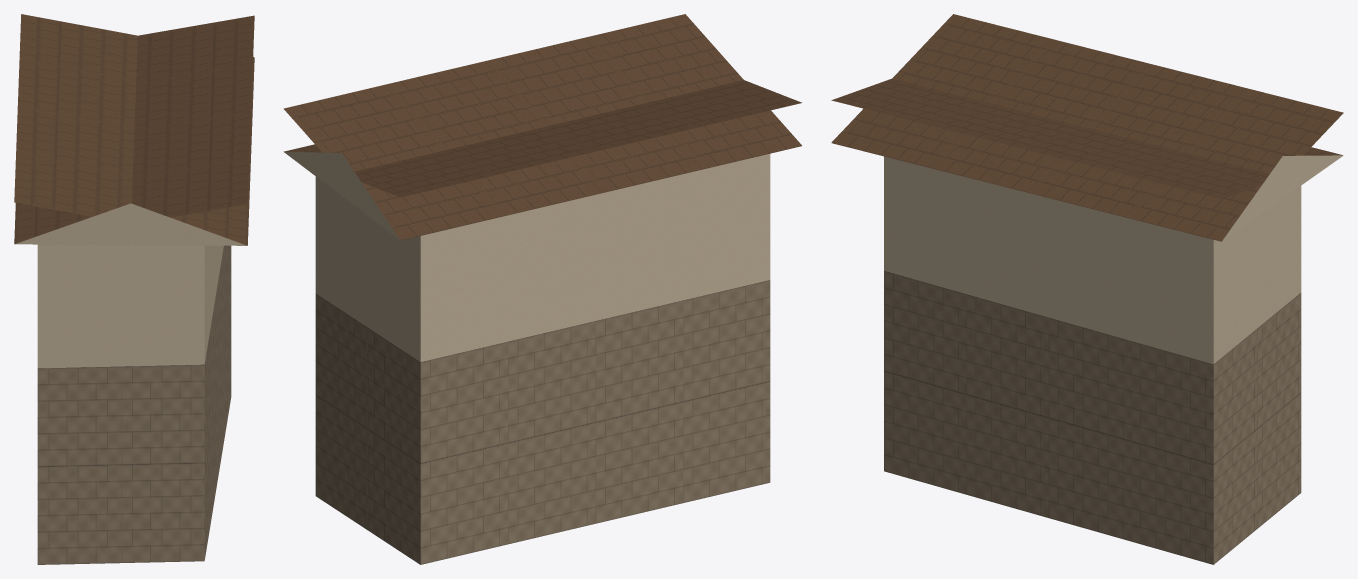
Rendered from bld_c21_46_405.gltf.
3 views of the same model, side by side, from view 1: azimuth 30°, elevation 25°; view 2: azimuth 150°, elevation 25°; view 3: azimuth 270°, elevation 25° (orthographic). The views are drawn at different scales.
Parts seen in each view (by area): view 1: bld_c21_46_405; view 2: bld_c21_46_405; view 3: bld_c21_46_405.
Boxes of the visible parts, x1,y1,x2,y2 form: bld_c21_46_405: (14, 14, 254, 564); bld_c21_46_405: (283, 14, 801, 564); bld_c21_46_405: (831, 14, 1343, 564).
Bounding box in the file's own units: 9.31 × 8.9 × 10.9.
Materials: 4 (4 with a texture image).
